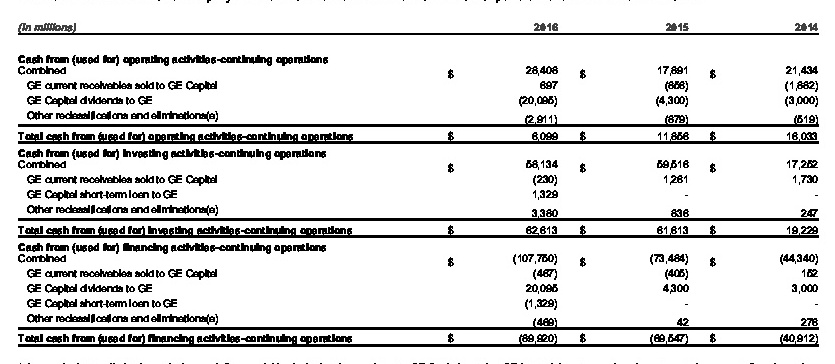table: (0, 0, 835, 364)
